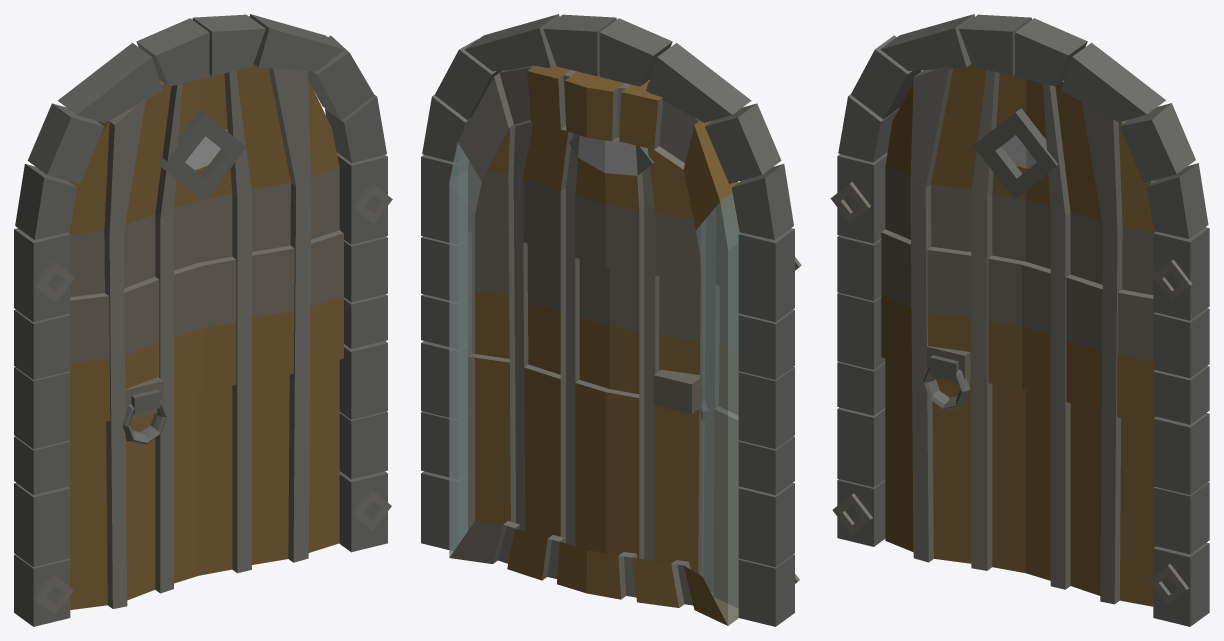
File: door.fbx
3 renders of one model, left to right at view 1: azimuth 30°, elevation 25°; view 2: azimuth 150°, elevation 25°; view 3: azimuth 330°, elevation 25°, orthographic.
Parts seen in each view (by area): view 1: pCube34; view 2: pCube34; view 3: pCube34.
Boxes of the visible parts, bbox=[...] form: pCube34: bbox=[14, 14, 392, 626]; pCube34: bbox=[421, 14, 801, 626]; pCube34: bbox=[830, 14, 1209, 626].
Size of the model in its own units: 49.51 by 73.1 by 8.58.
